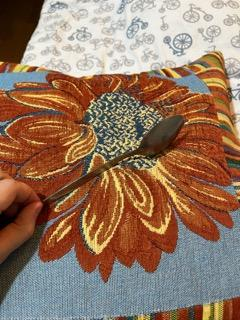spoon: (26, 114, 186, 210)
